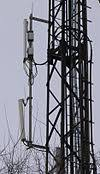sa: (16, 98, 31, 143)
